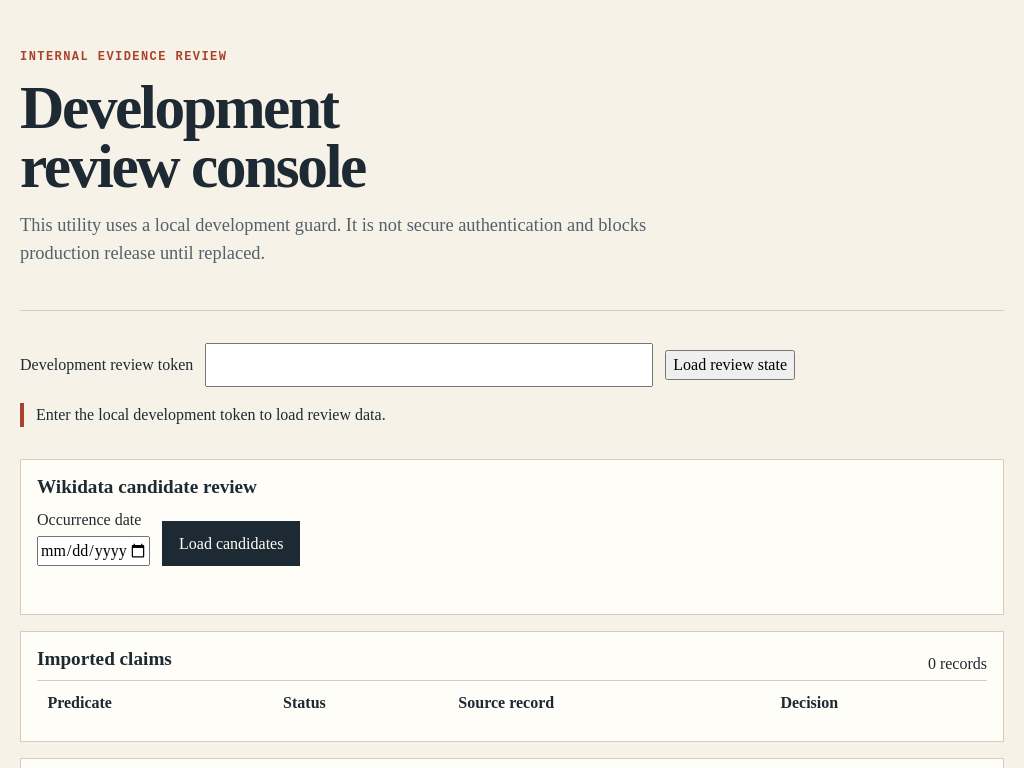
Test case: development review console › loads Wikidata candidates for the chosen occurrence date
This screenshot has width=1024, height=768.
Type "local-test-token" into the password field labelled "Development review token" at (429, 365), box [205,342,653,387]
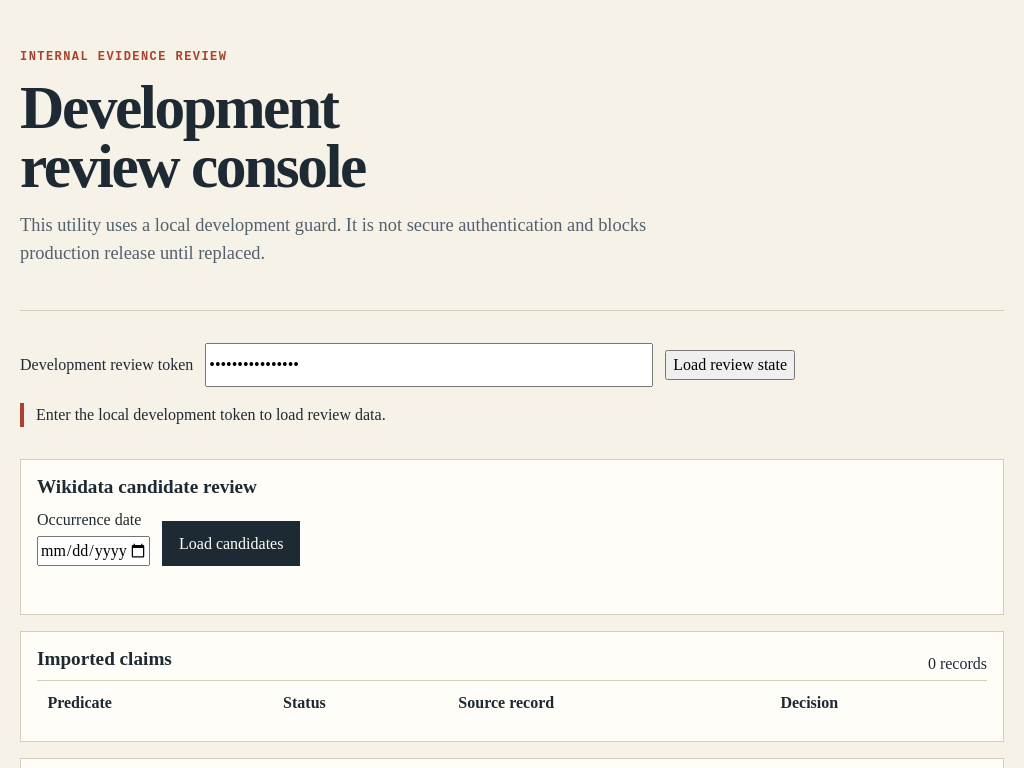
Type "1964-03-27" into the date field labelled "Occurrence date" at (94, 551), box [37,536,150,566]
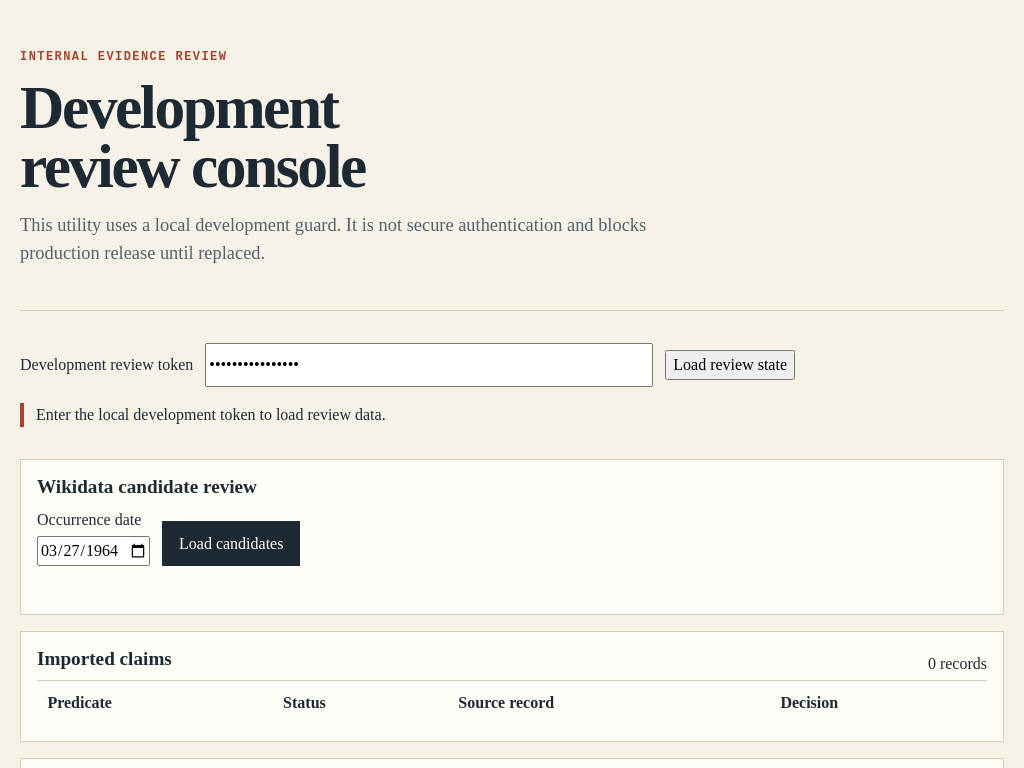
Click the button "Load candidates" at (231, 544), box [162,521,300,566]
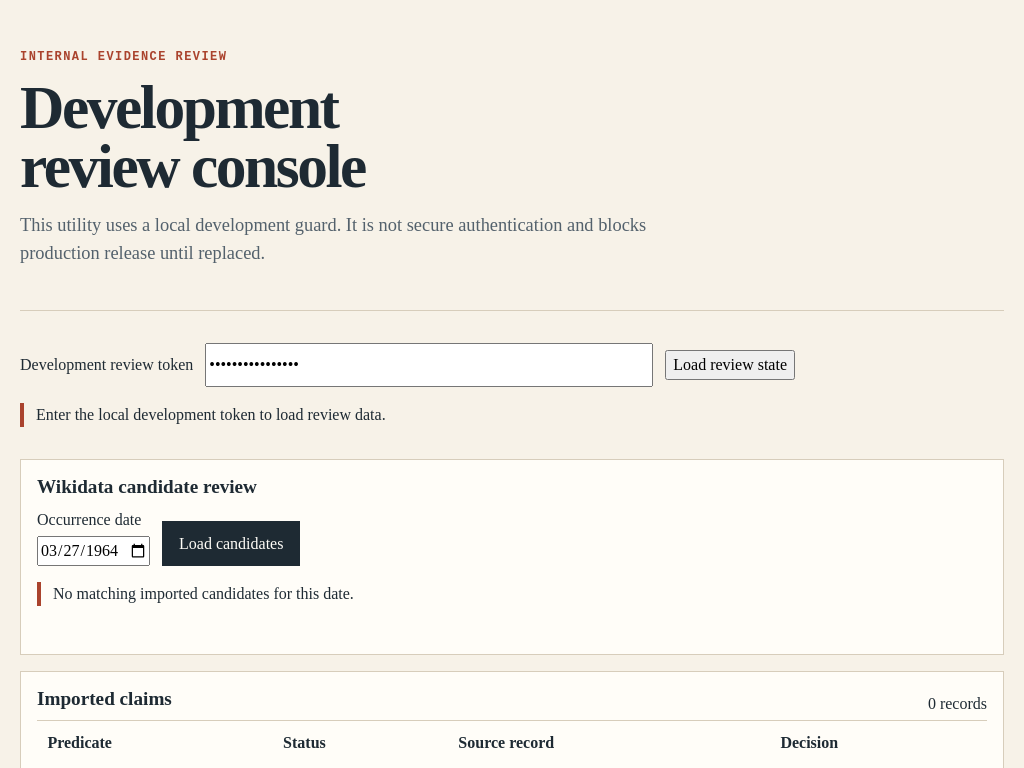
Expected: the text "No matching imported candidates for this date." is shown, [37,582,987,606]
